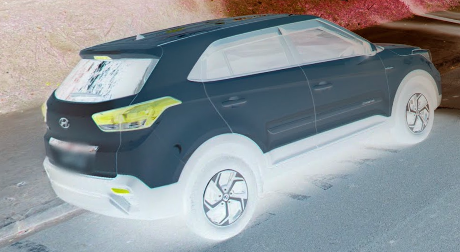car: (41, 14, 444, 240)
